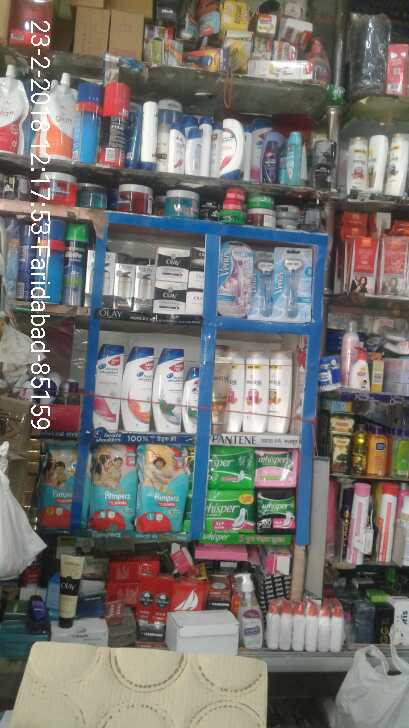venus: (275, 247, 314, 319), (219, 242, 249, 316), (250, 251, 275, 319)
